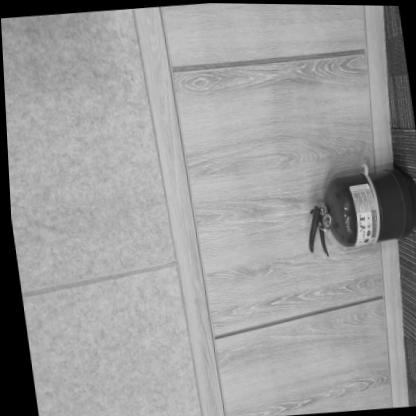FE: (296, 161, 416, 259)
